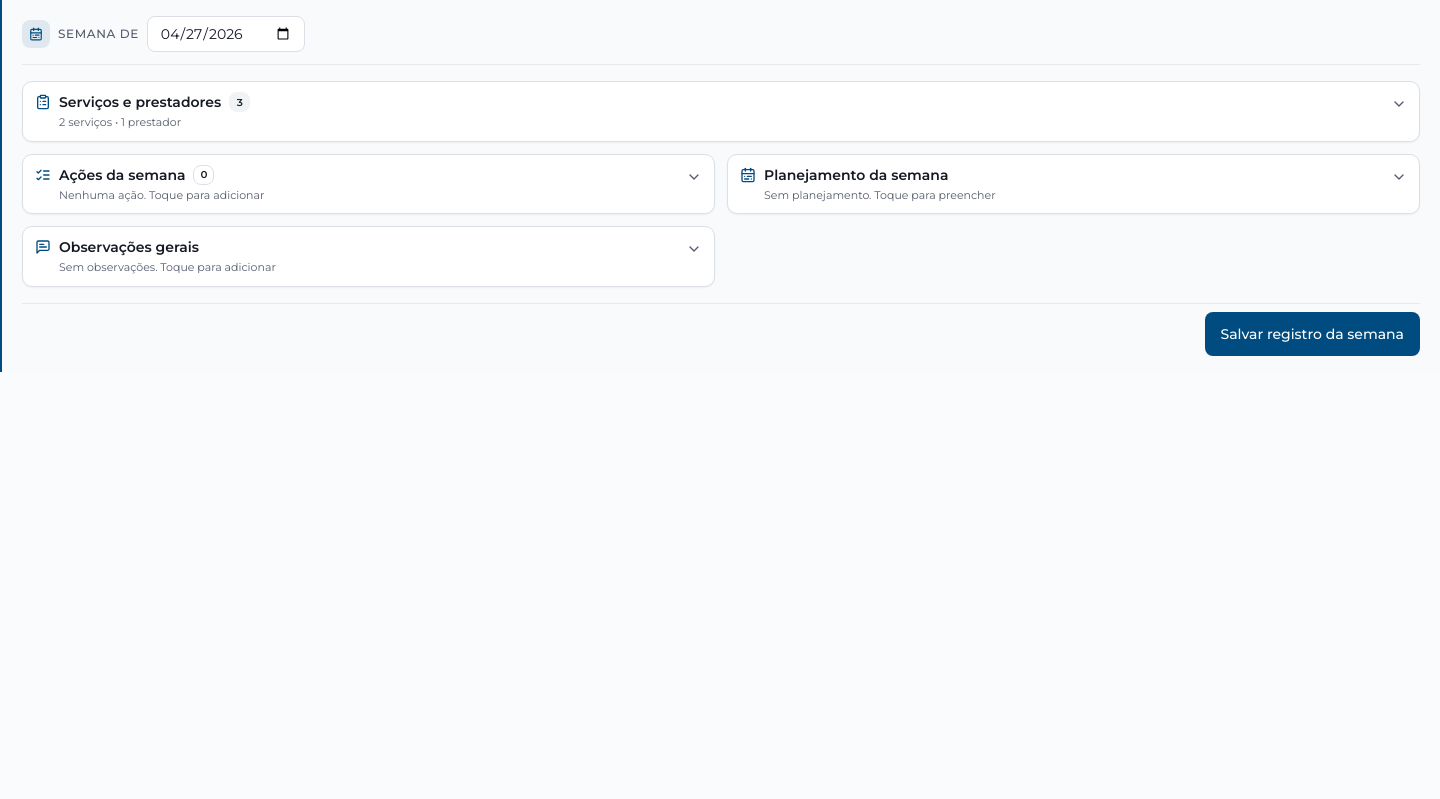
DailyLogInline — seção unificada Serviços e prestadores › exibe o contador agregado (services + workers) no header e por subseção
Click the button "Serviços e prestadores 3 2 serviços • 1 prestador". click: (140, 102)
box: [23,82,1419,140]
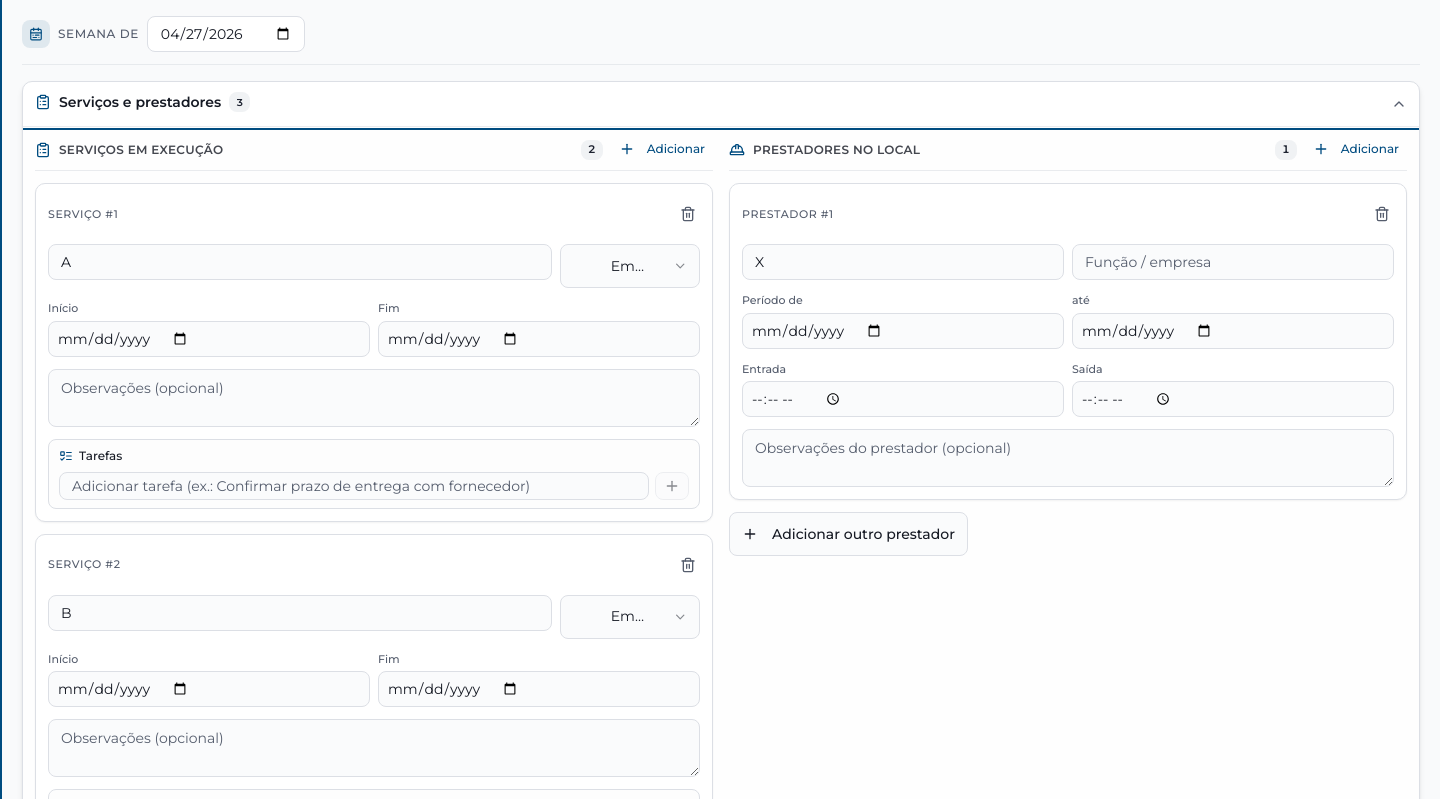
Expected: the text "3" is shown, [229,92,250,112]
Result: the text "2" is shown at [581,140,603,160]
Result: the text "1" is shown at [1275,140,1297,160]
